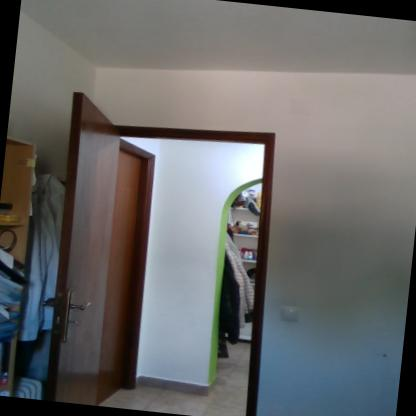closed: (93, 140, 160, 398)
open: (52, 99, 294, 415)
